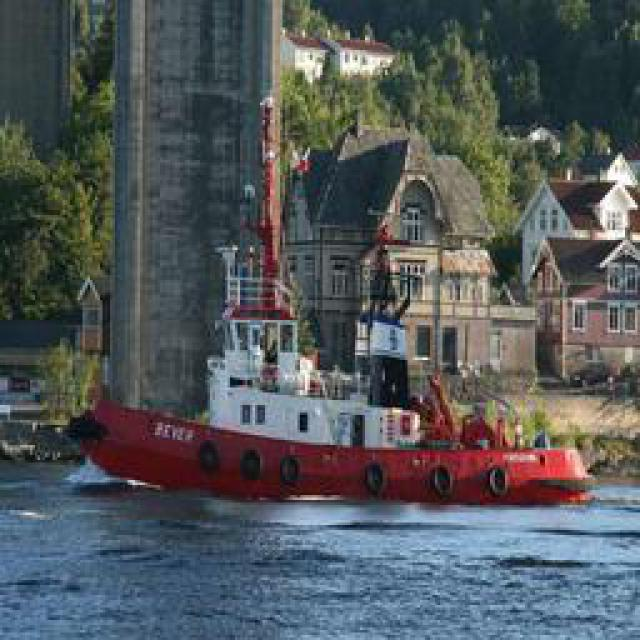Ship: (67, 246, 607, 509)
